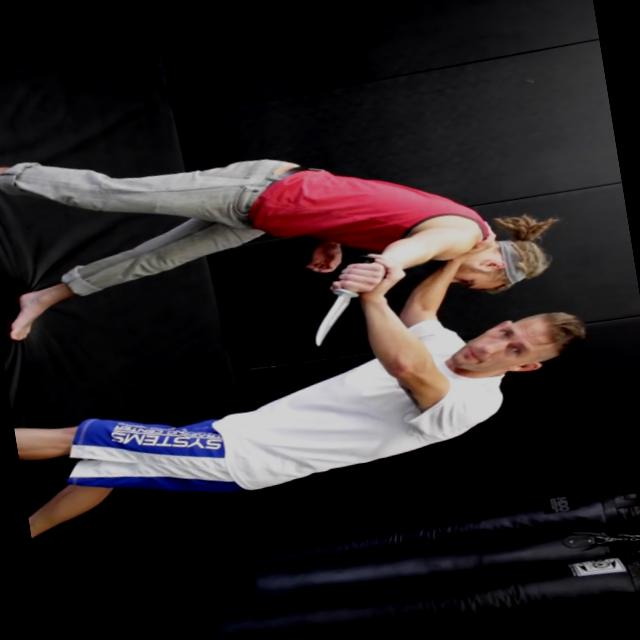knife: (292, 246, 395, 354)
